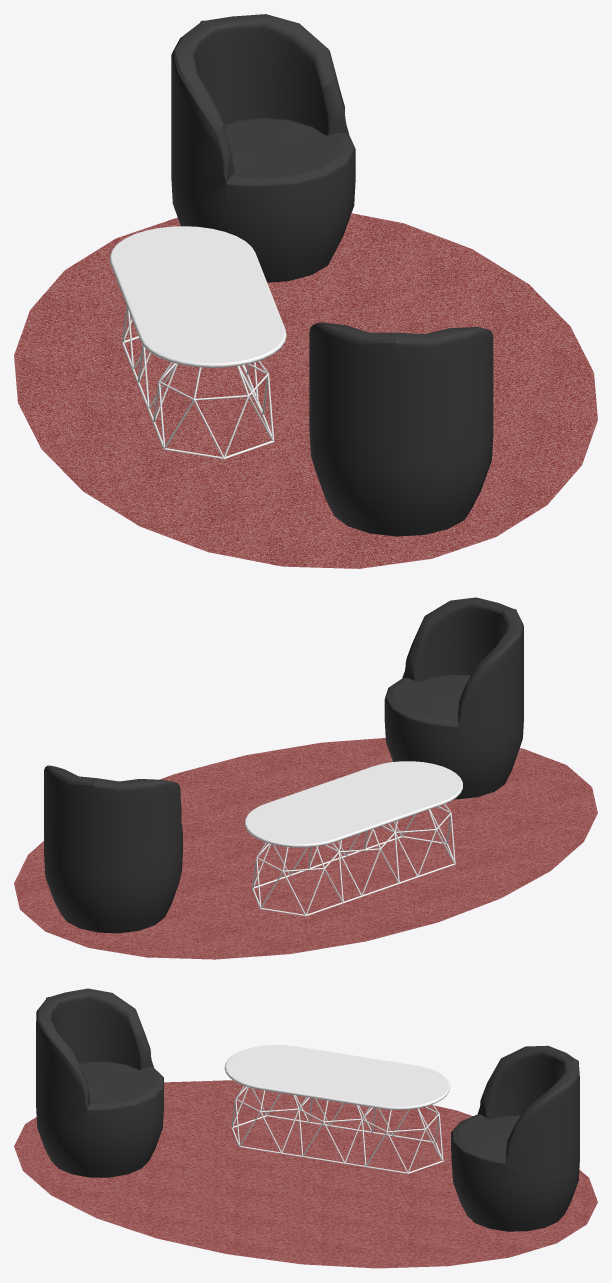
File: conjuntomoqueta.fbx
3 renders of one model, top to bottom at view 1: azimuth 30°, elevation 25°; view 2: azimuth 150°, elevation 25°; view 3: azimuth 270°, elevation 25°, orthographic. The views are drawn at different scales.
Parts seen in each view (by area): view 1: Moqueta, Butaca1, Butaca, MesaElipseregular, Sofa:SoporteMesa; view 2: Moqueta, Butaca, Butaca1, MesaElipseregular, Sofa:SoporteMesa; view 3: Moqueta, Butaca, Butaca1, MesaElipseregular, Sofa:SoporteMesa.
Part boxes in pixels (x1,y1,x2,y2): Moqueta: [14, 213, 597, 568]; Butaca1: [171, 14, 355, 282]; Butaca: [309, 322, 493, 536]; MesaElipseregular: [109, 226, 286, 367]; Sofa:SoporteMesa: [121, 306, 274, 459]; Moqueta: [14, 738, 597, 959]; Butaca: [384, 597, 523, 799]; Butaca1: [44, 765, 182, 933]; MesaElipseregular: [244, 761, 462, 847]; Sofa:SoporteMesa: [252, 804, 455, 916]; Moqueta: [14, 1080, 597, 1268]; Butaca: [36, 988, 163, 1177]; Butaca1: [451, 1045, 579, 1231]; MesaElipseregular: [224, 1045, 450, 1109]; Sofa:SoporteMesa: [231, 1086, 443, 1173].
Size of the model in its own units: 257 by 94.9 by 337.
4 materials, 1 textured.
